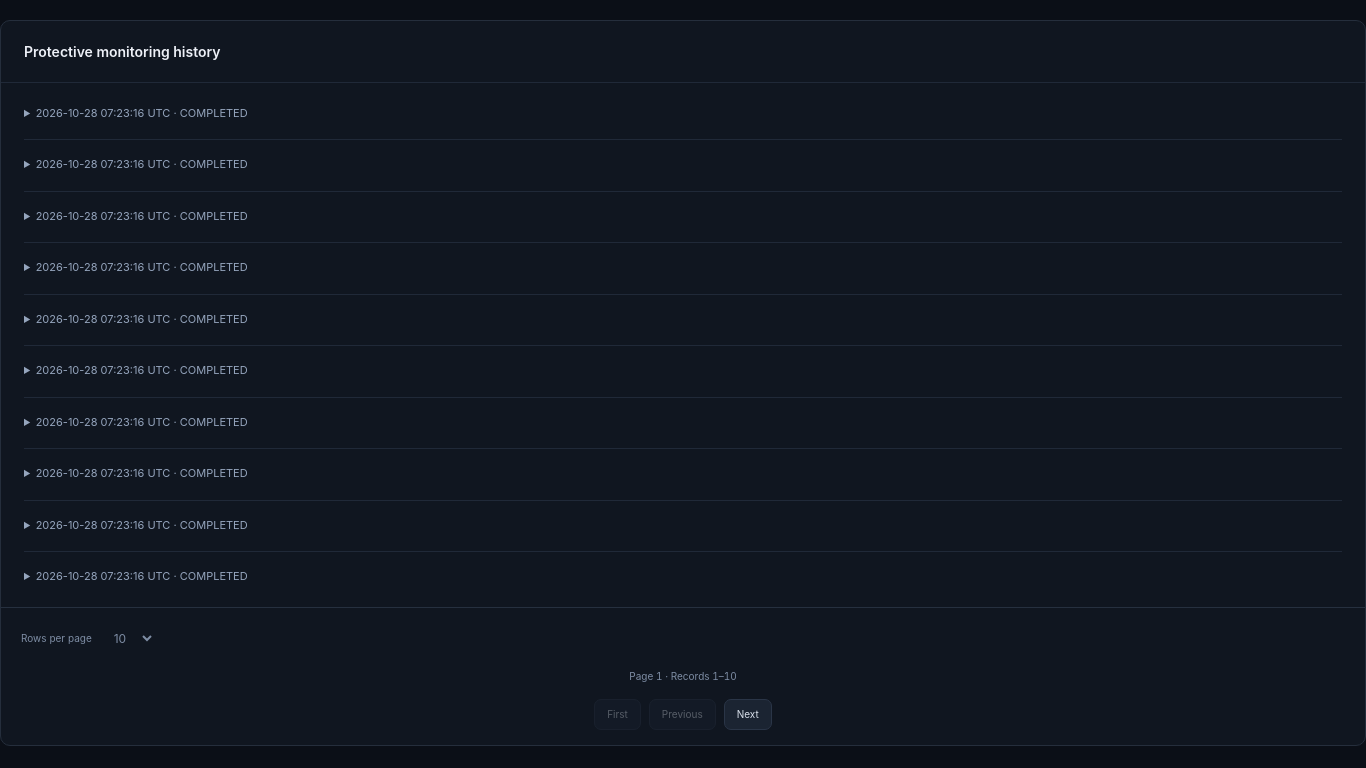
requests older protection incidents beyond the settings preview
(page scrolled)
Click the button "Next".
click(748, 714)  # box [724, 699, 772, 730]
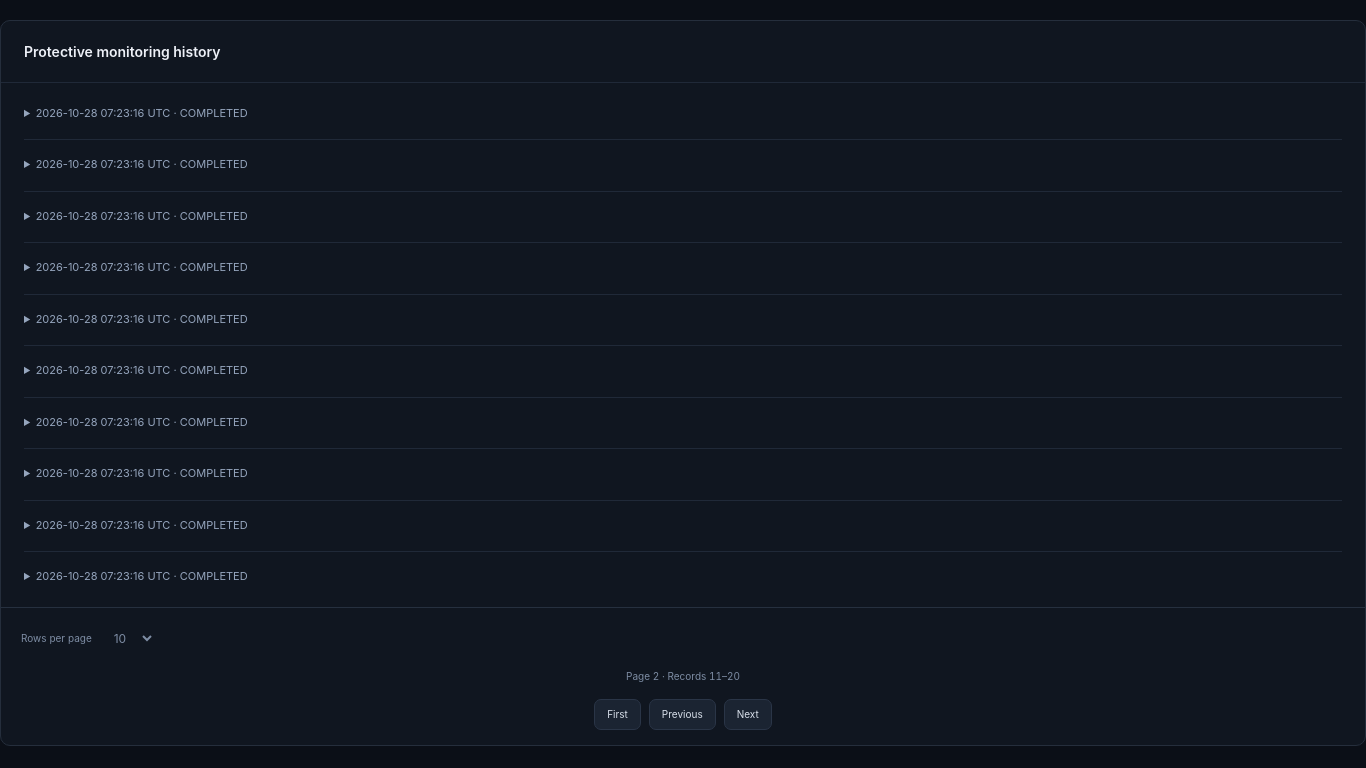
Check: the message shows "Records 11–20", box [668, 670, 740, 682]
